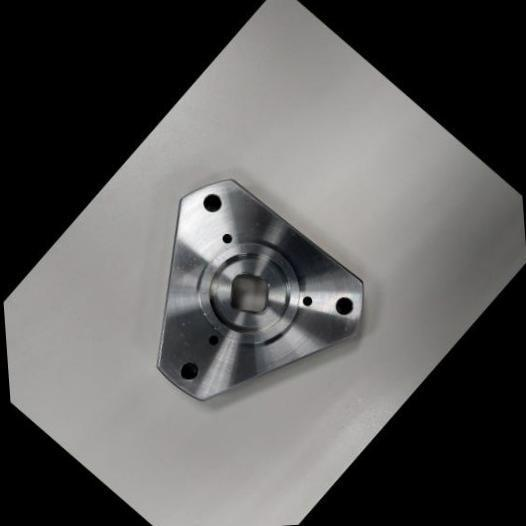hole: (172, 354, 206, 388), (196, 186, 228, 218), (327, 290, 359, 320), (216, 228, 236, 247), (297, 290, 315, 310), (204, 330, 221, 348)
